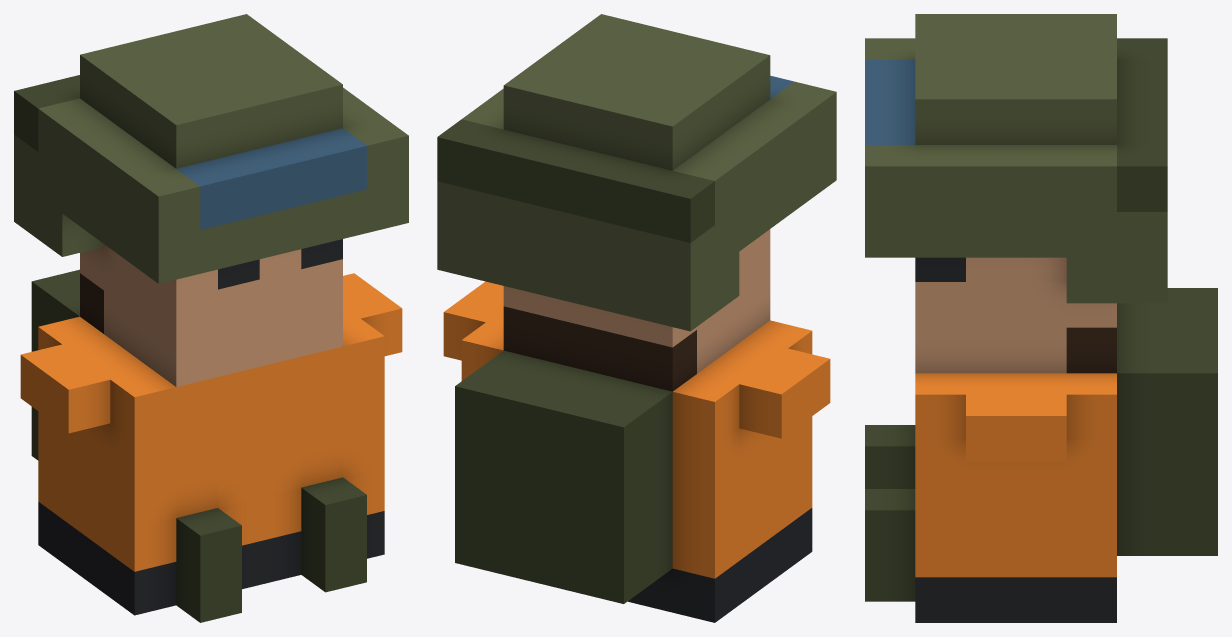
File: cm_rifle_t_5.glb
3 views of the same model, side by side, from view 1: azimuth 30°, elevation 25°; view 2: azimuth 150°, elevation 25°; view 3: azimuth 270°, elevation 25° (orthographic). The views are drawn at different scales.
Parts seen in each view (by area): view 1: cm_rifle_t_5_body; view 2: cm_rifle_t_5_body; view 3: cm_rifle_t_5_body.
Boxes of the visible parts, <box> form: cm_rifle_t_5_body: <box>14,14,408,622</box>; cm_rifle_t_5_body: <box>437,14,836,622</box>; cm_rifle_t_5_body: <box>865,14,1217,622</box>.
Size of the model in its own units: 0.5 by 0.6875 by 0.4375.
Materials: 1 (1 with a texture image).
